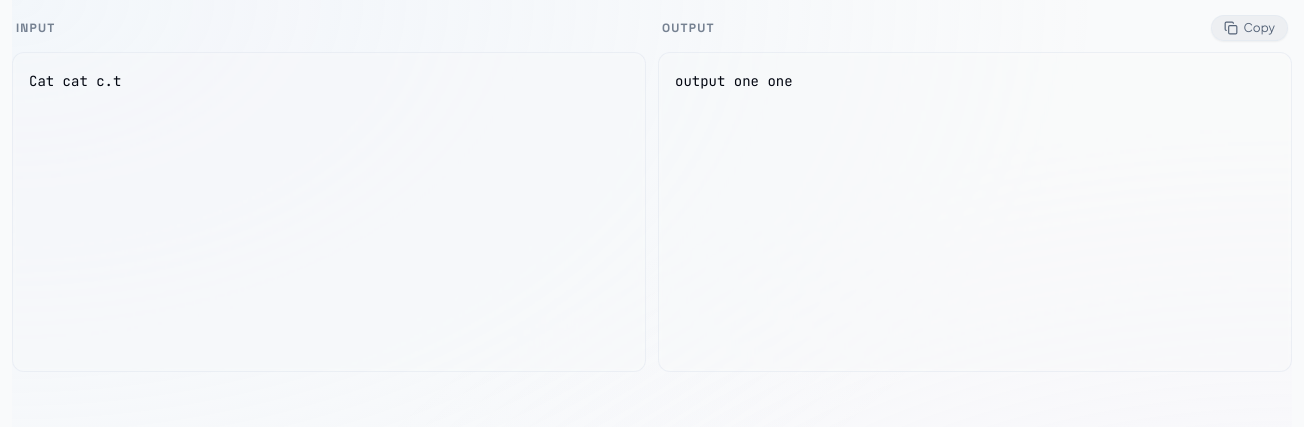
Test: ToolIoPanels find and replace › recomputes case and regex searches through accessible toggles
This screenshot has width=1304, height=427.
Press f
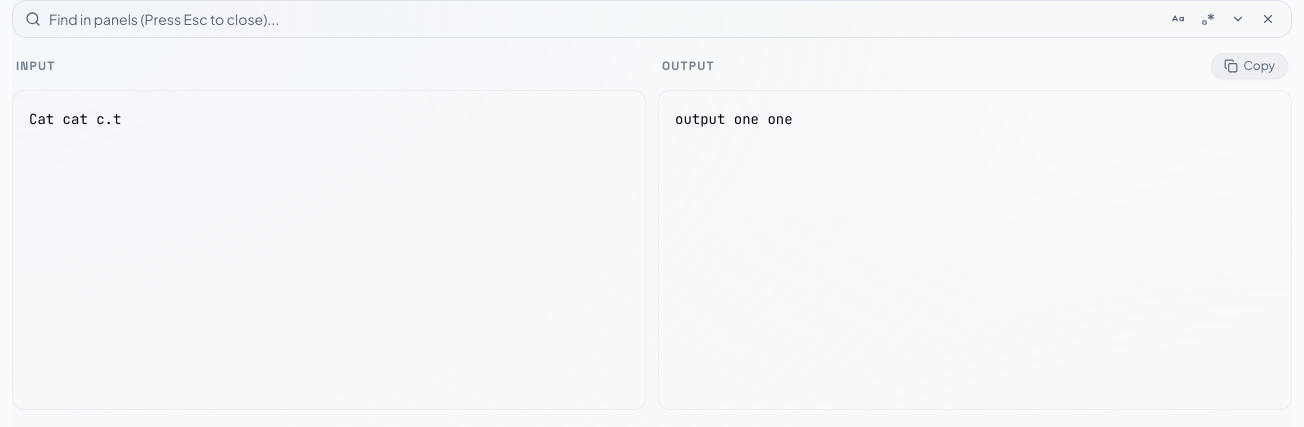
Type "cat" into the field labelled "Find in panels" at (604, 19), box top-left (49, 7), bottom-right (1159, 31)
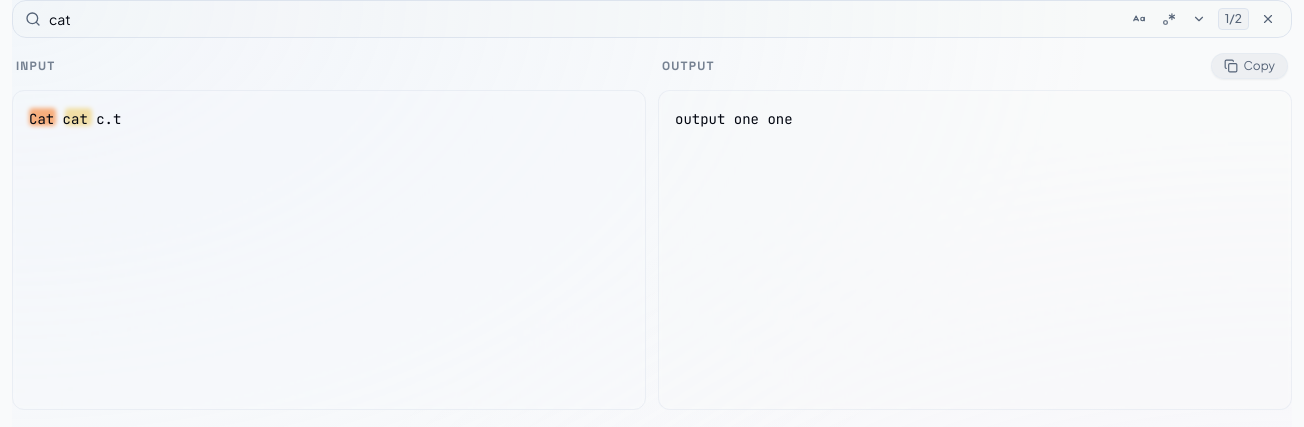
Expected: the text "1/2" is shown, top-left (1218, 8), bottom-right (1249, 30)
Click the button named "Match case" at (1139, 19), box top-left (1128, 8), bottom-right (1150, 30)
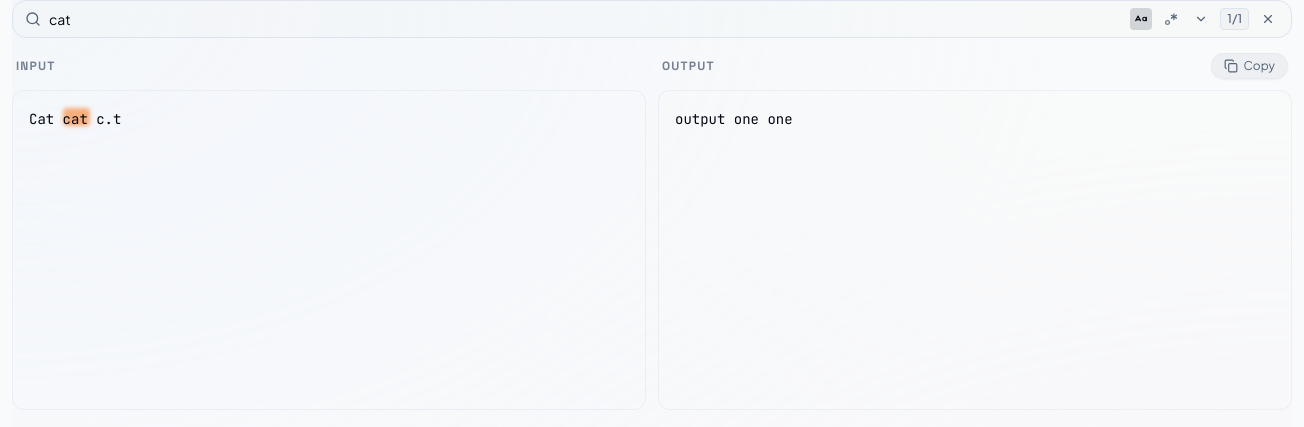
Expected: the text "1/1" is shown, top-left (1220, 8), bottom-right (1249, 30)
Replace the text in the field named "Find in panels" with "c.t" at (586, 19), box top-left (49, 7), bottom-right (1122, 31)
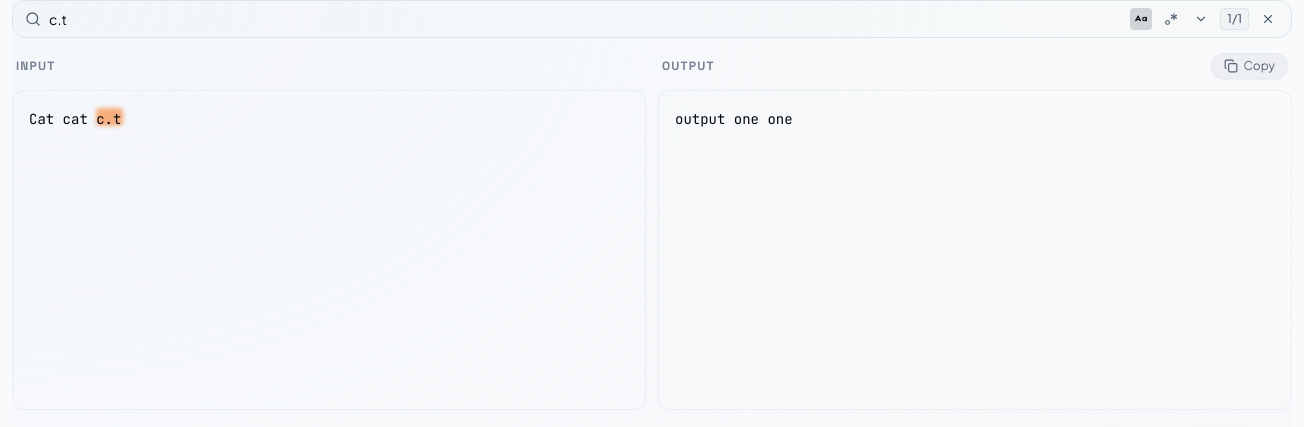
Click the button named "Use regular expression" at (1171, 19), box top-left (1160, 8), bottom-right (1182, 30)
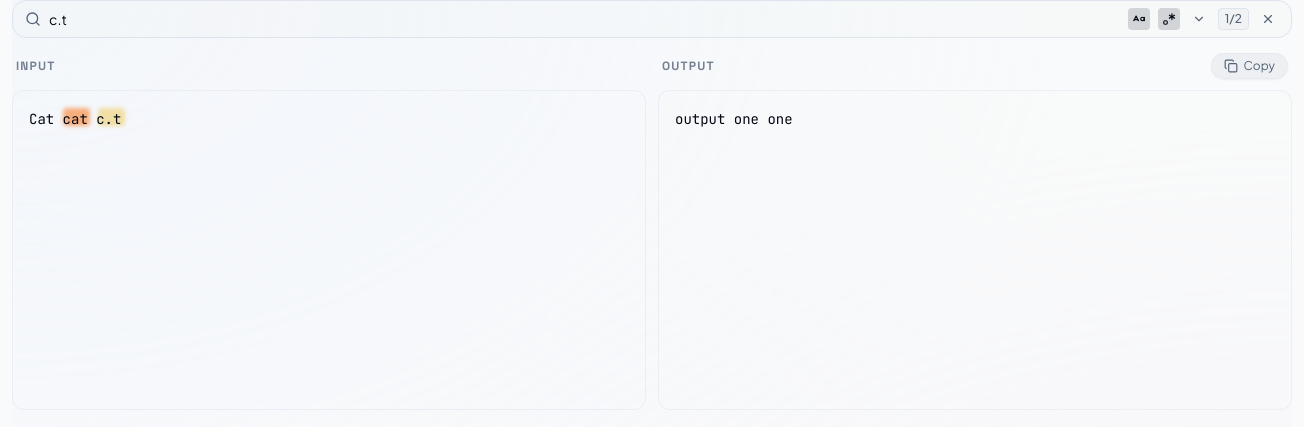
Expected: the text "1/2" is shown, top-left (1218, 8), bottom-right (1249, 30)
